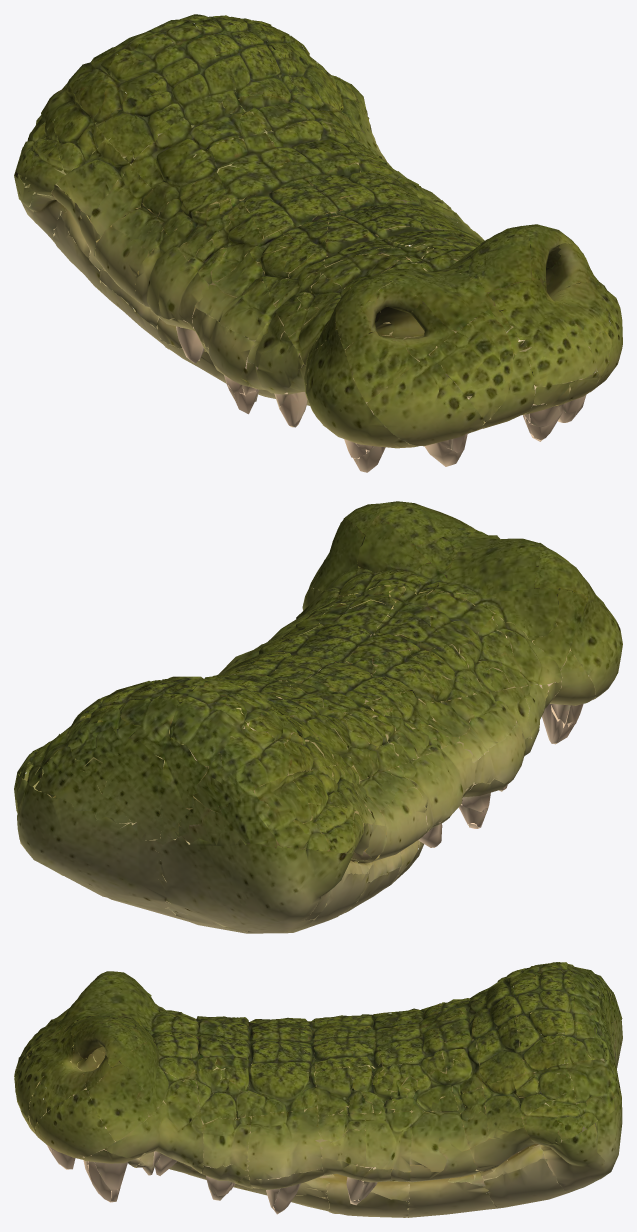
File: croc-snout.glb
3 renders of one model, top to bottom at view 1: azimuth 30°, elevation 25°; view 2: azimuth 150°, elevation 25°; view 3: azimuth 270°, elevation 25°, orthographic. The views are drawn at different scales.
Visible parts, largest first — view 1: Mesh_0; view 2: Mesh_0; view 3: Mesh_0.
Part boxes in pixels (x1=…): Mesh_0: x1=14, y1=14, x2=622, y2=472; Mesh_0: x1=14, y1=501, x2=622, y2=933; Mesh_0: x1=14, y1=962, x2=622, y2=1217.
Size of the model in its own units: 0.9888 by 0.7798 by 1.91.
Materials: 1 (1 with a texture image).
